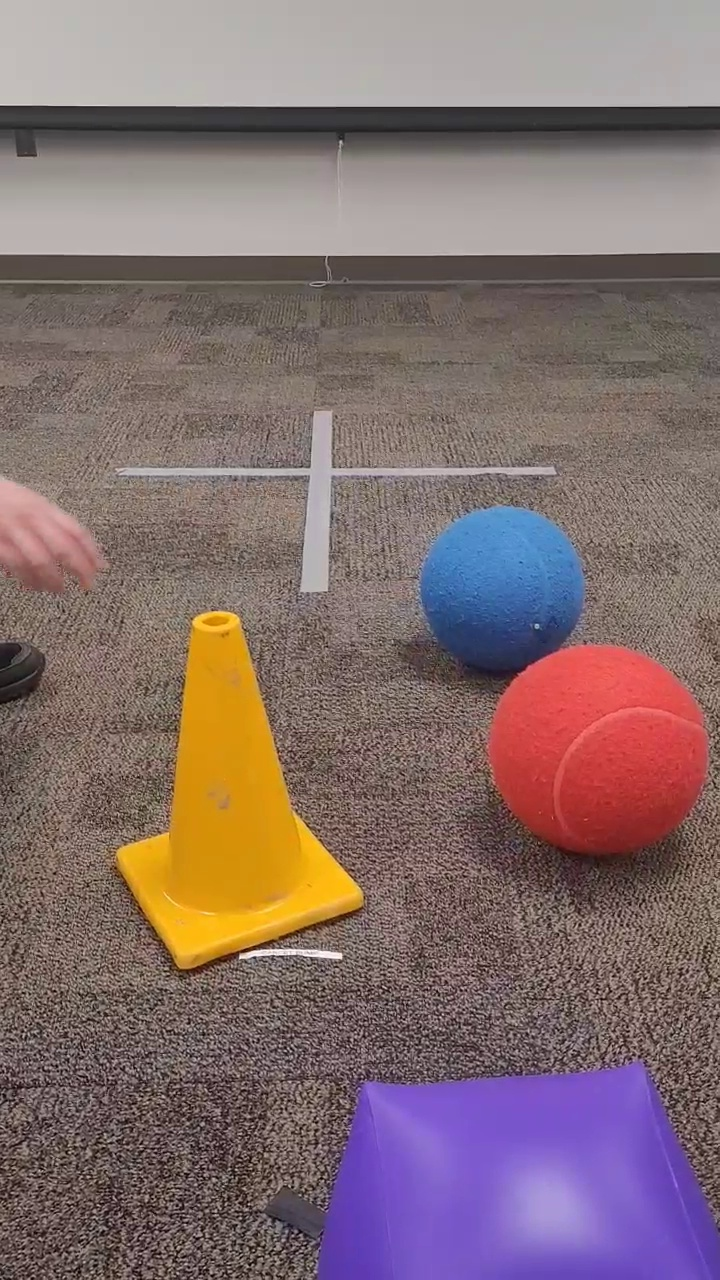ball: (486, 637, 711, 859), (415, 504, 592, 679)
cone: (112, 611, 372, 979)
cube: (312, 1061, 720, 1279)
foot: (1, 635, 48, 708)
hand: (1, 474, 113, 604)
